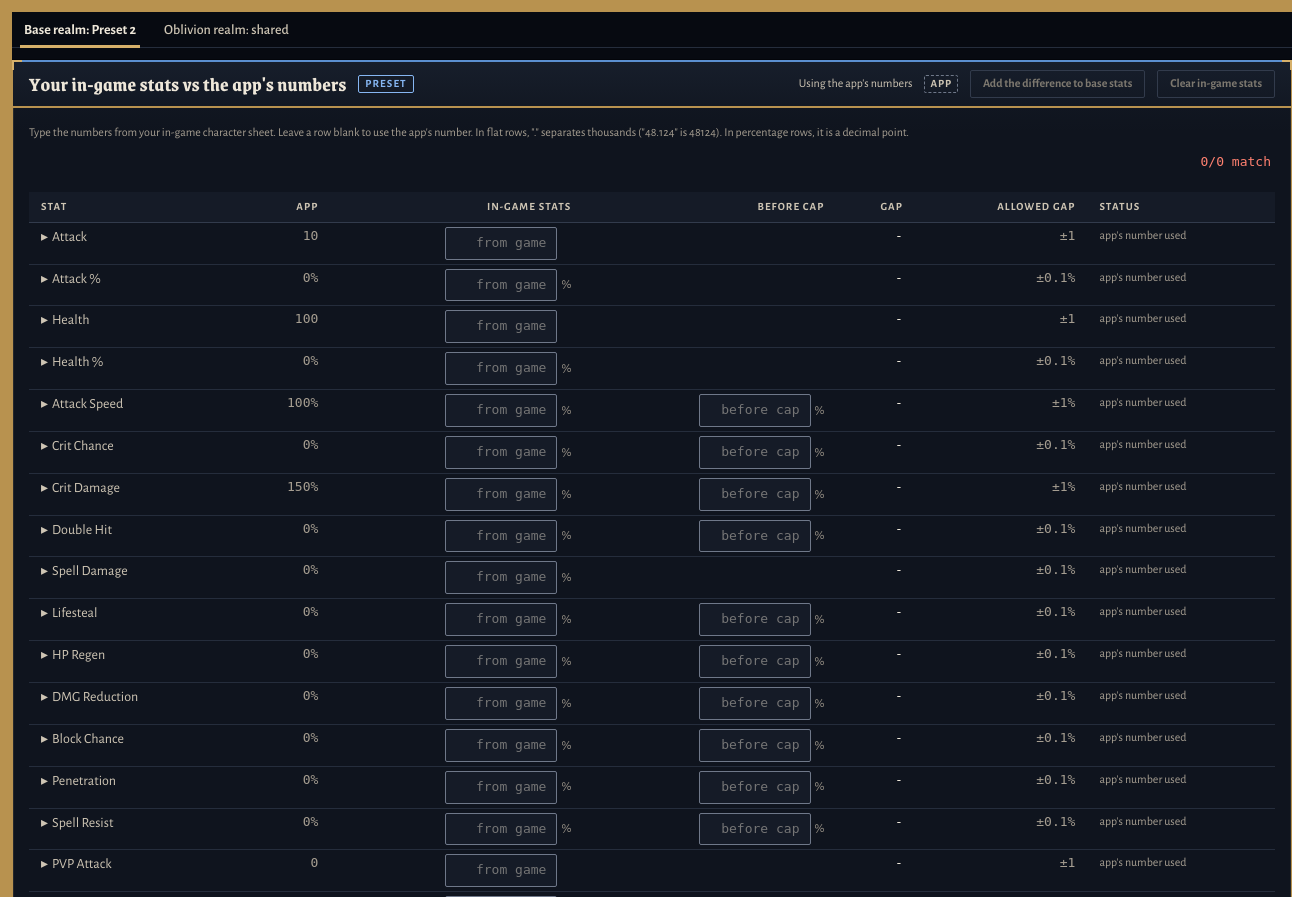
Test: an Oblivion sheet owned by another preset warns and is not applied to this one
Click the tab "Oblivion realm: shared": (226, 30) [152,12,301,48]
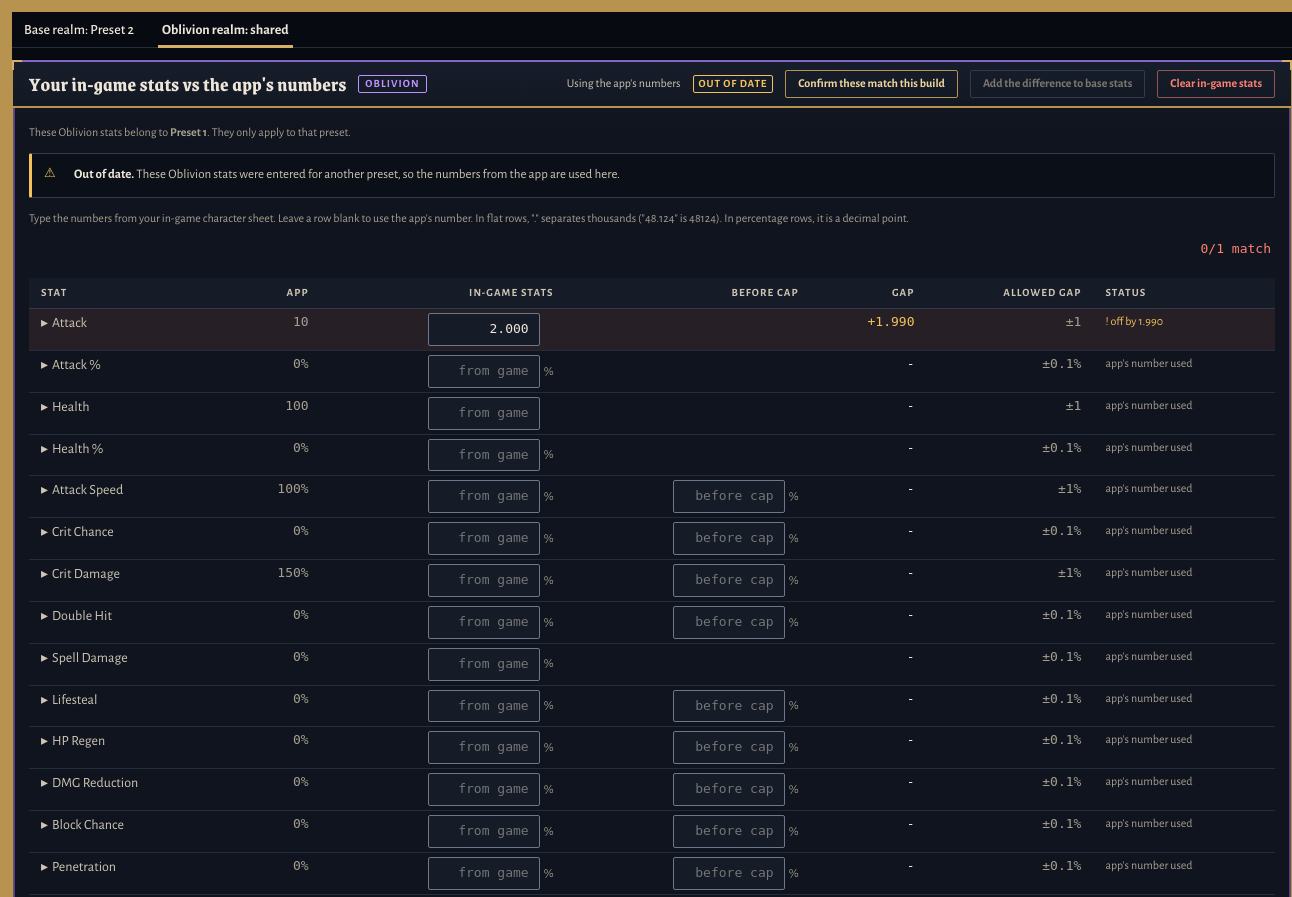
Result: the text with test id "sheet-status" shows "another preset" at [136,168,620,181]
Result: the element with test id "oblivion-owner" shows "Preset 1" at [170,126,207,138]
